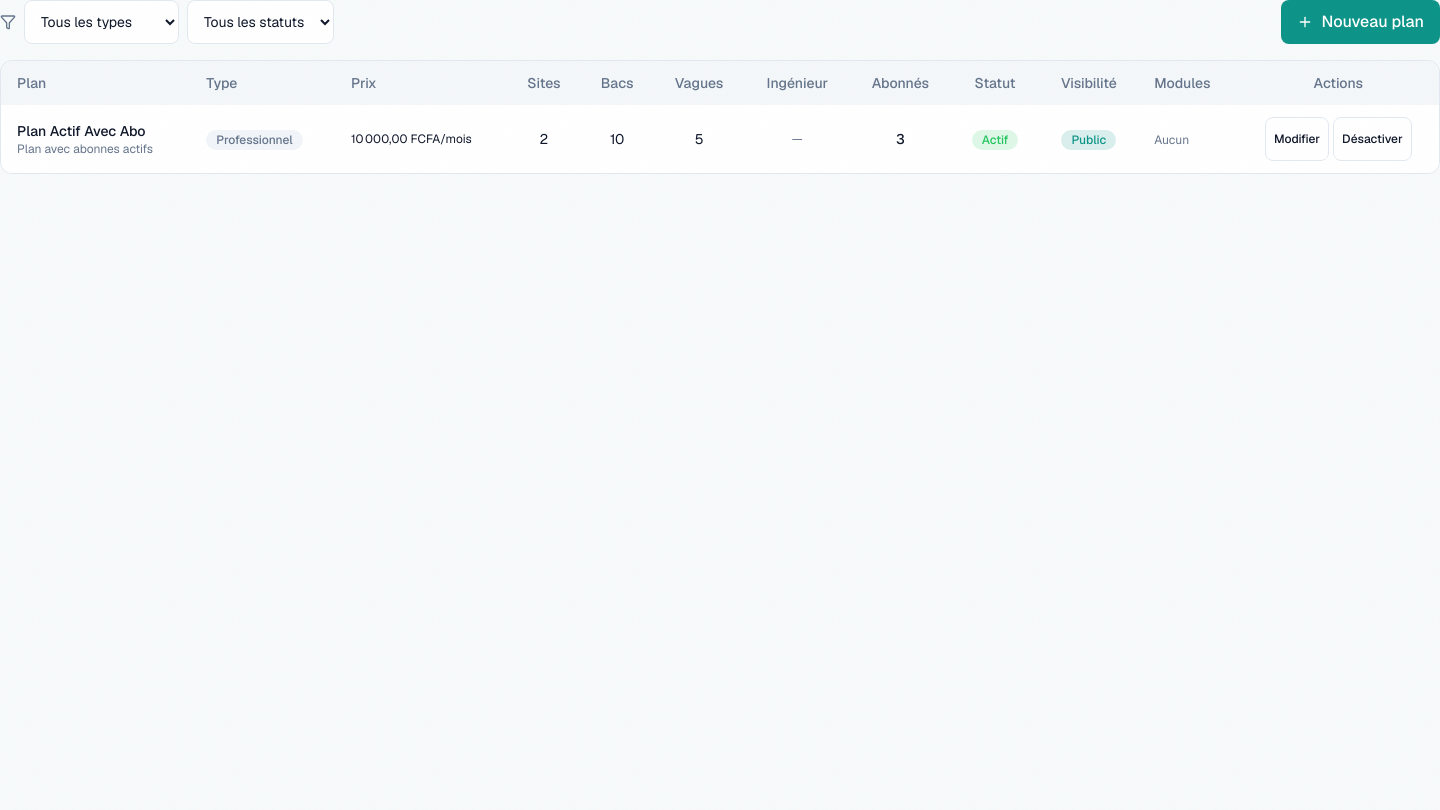
Toggle — Annuler le dialog › ferme le dialog et ne change pas le statut apres annulation
What coordinates should you click on to do the following:
click the button with aria-label "désactiver le plan Plan Actif Avec Abo"
I would click on:
 (1372, 139)
Its box is [1333, 117, 1412, 161].
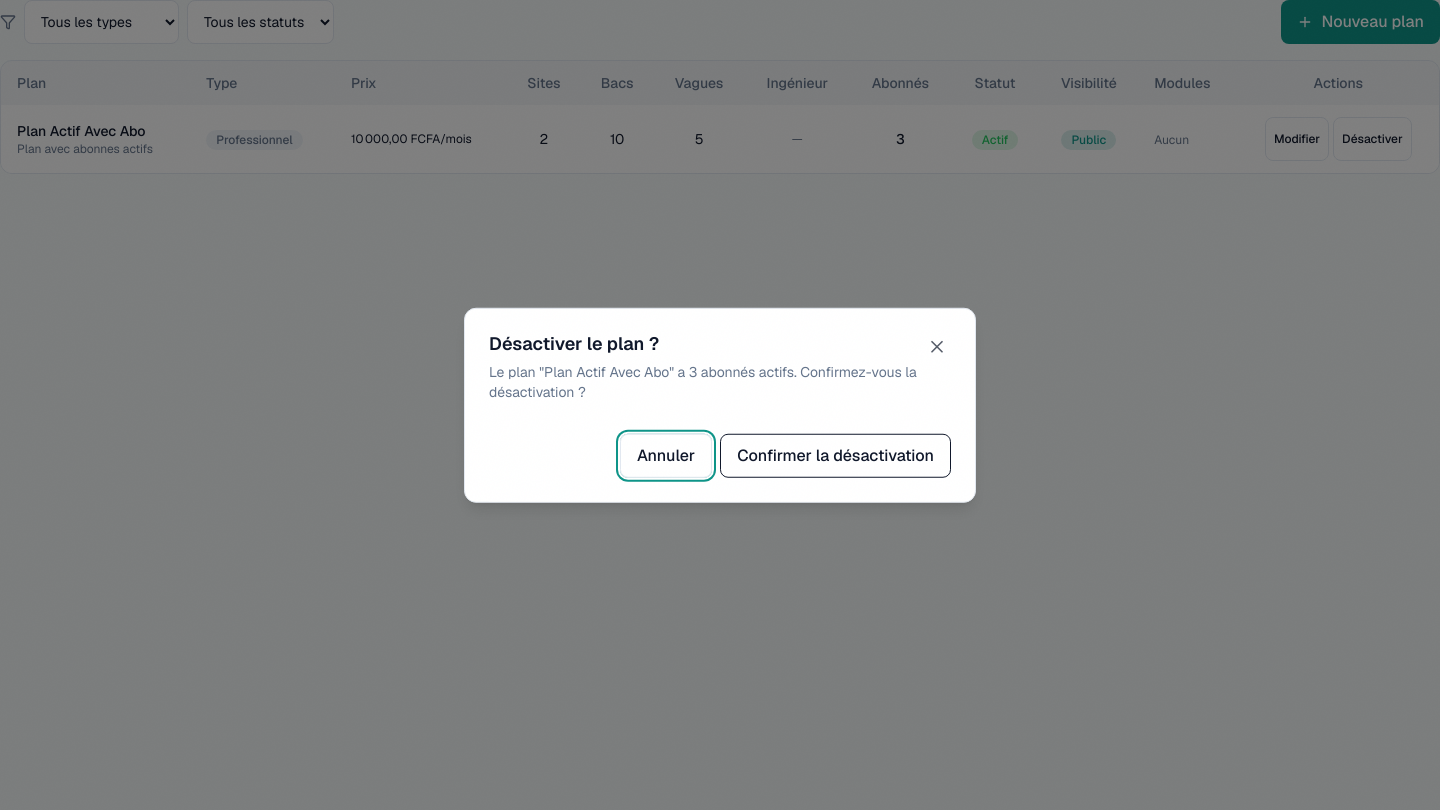
Expected: the heading "Désactiver le plan ?" is shown, [489, 332, 659, 355]
Note: Cliquer sur Annuler
What coordinates should you click on to do the following:
click the button "Annuler"
I would click on:
 (666, 455)
Its box is [620, 433, 712, 477].
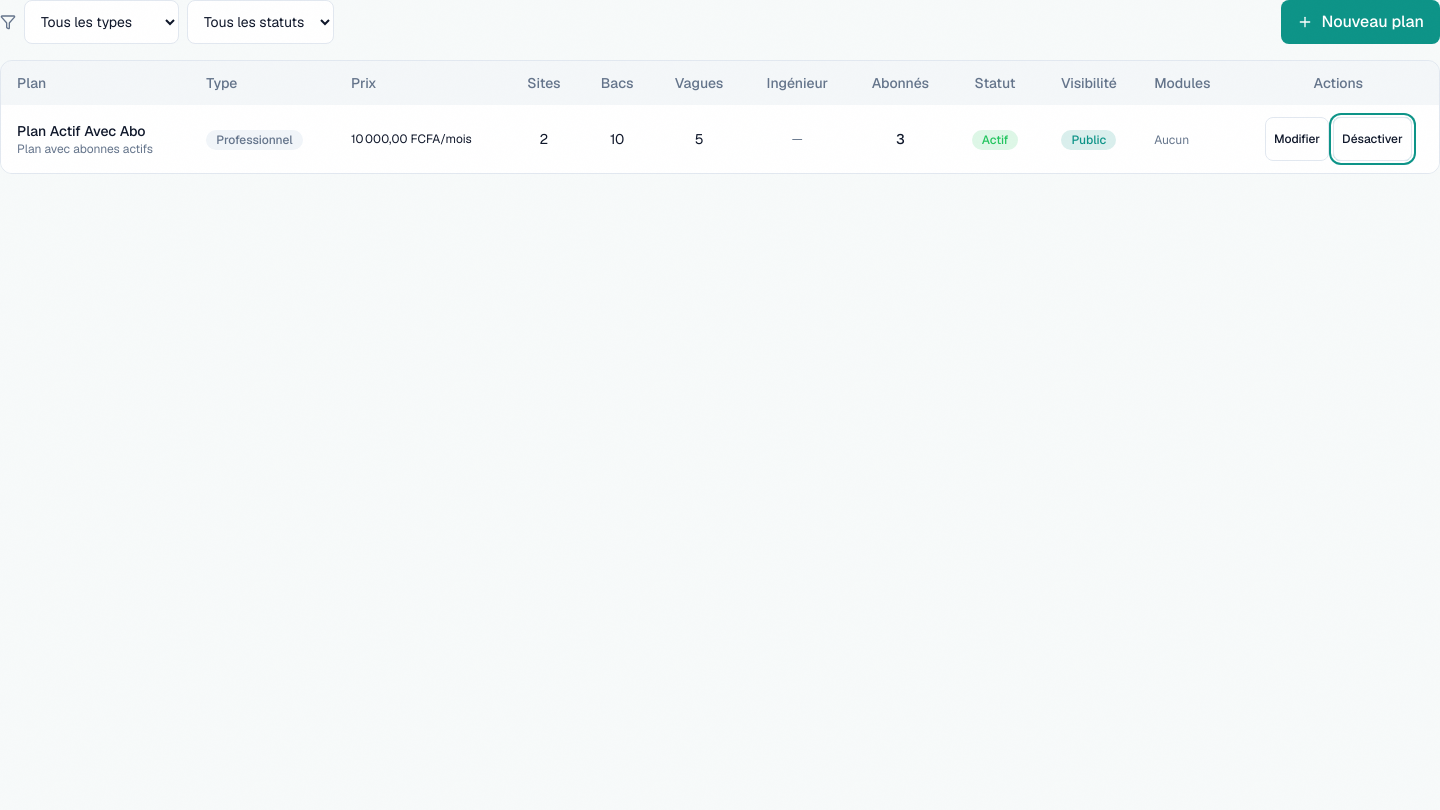
Expected: the heading "Désactiver le plan ?" is gone
